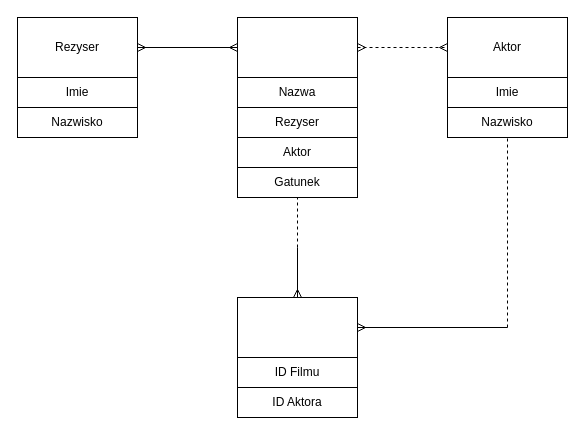
This 585x435 diagram has some shape labels left out. Here are the shapes that lost their labels. From the top down, the centre of each, then its label:
At (297,47): "FIlm".
At (297,327): "Cytat".
